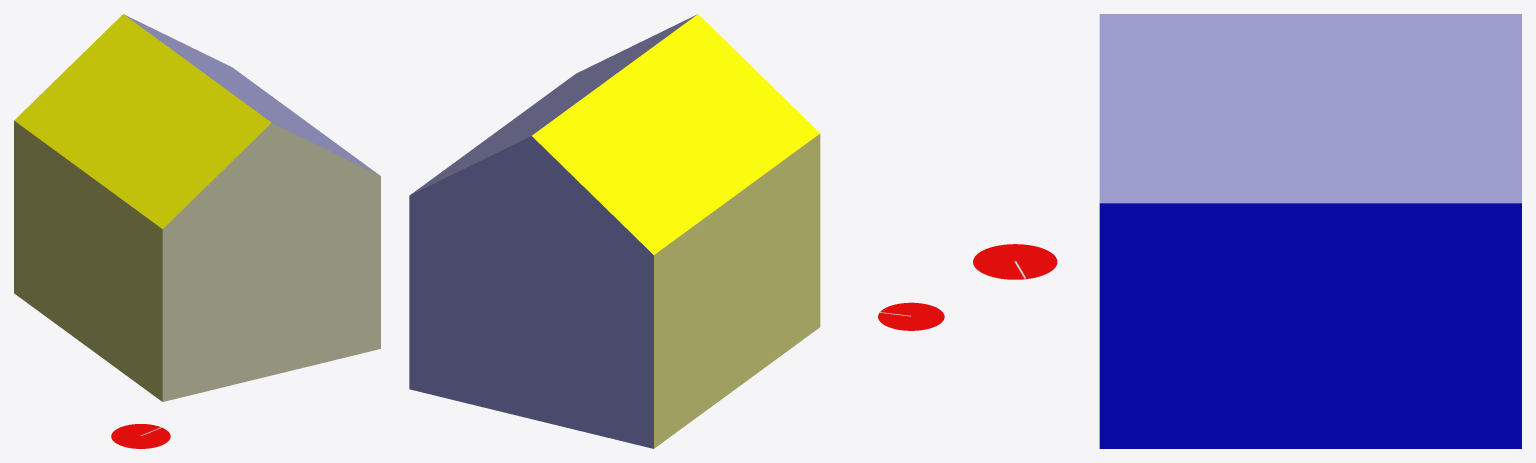
Rendered from result.glb.
3 renders of one model, left to right at view 1: azimuth 30°, elevation 25°; view 2: azimuth 150°, elevation 25°; view 3: azimuth 270°, elevation 25°, orthographic. The views are drawn at different scales.
Parts seen in each view (by area): view 1: fbe8c604-13cf-47c2-a23f-c63e923e86fa__undefined, 8908fadc-a802-4c4b-9126-795b3aaf50d0__undefined, 984ecce1-1292-419e-933f-fe7b27564c52__undefined, 2cf3e2b7-8741-4010-b4b7-ec59694e81e9__undefined, 72692b46-6a08-41d9-8b31-55dccdb44ef6__Circle; view 2: 2af05c23-9398-4c28-b0a3-43bd29ceca63__undefined, 8908fadc-a802-4c4b-9126-795b3aaf50d0__undefined, 984ecce1-1292-419e-933f-fe7b27564c52__undefined, 2cf3e2b7-8741-4010-b4b7-ec59694e81e9__undefined, 72692b46-6a08-41d9-8b31-55dccdb44ef6__Circle; view 3: 08b2bd15-3aa7-4d26-881e-13be2a24077b__undefined, 2cf3e2b7-8741-4010-b4b7-ec59694e81e9__undefined, 72692b46-6a08-41d9-8b31-55dccdb44ef6__Circle.
Part boxes in pixels (x1=…): fbe8c604-13cf-47c2-a23f-c63e923e86fa__undefined: x1=162, y1=123, x2=380, y2=401; 8908fadc-a802-4c4b-9126-795b3aaf50d0__undefined: x1=14, y1=14, x2=271, y2=228; 984ecce1-1292-419e-933f-fe7b27564c52__undefined: x1=14, y1=120, x2=162, y2=401; 2cf3e2b7-8741-4010-b4b7-ec59694e81e9__undefined: x1=124, y1=14, x2=379, y2=175; 72692b46-6a08-41d9-8b31-55dccdb44ef6__Circle: x1=111, y1=424, x2=170, y2=448; 2af05c23-9398-4c28-b0a3-43bd29ceca63__undefined: x1=409, y1=136, x2=653, y2=448; 8908fadc-a802-4c4b-9126-795b3aaf50d0__undefined: x1=532, y1=14, x2=819, y2=254; 984ecce1-1292-419e-933f-fe7b27564c52__undefined: x1=654, y1=134, x2=820, y2=448; 2cf3e2b7-8741-4010-b4b7-ec59694e81e9__undefined: x1=410, y1=14, x2=697, y2=194; 72692b46-6a08-41d9-8b31-55dccdb44ef6__Circle: x1=878, y1=302, x2=944, y2=330; 08b2bd15-3aa7-4d26-881e-13be2a24077b__undefined: x1=1099, y1=203, x2=1521, y2=448; 2cf3e2b7-8741-4010-b4b7-ec59694e81e9__undefined: x1=1099, y1=14, x2=1521, y2=203; 72692b46-6a08-41d9-8b31-55dccdb44ef6__Circle: x1=973, y1=244, x2=1057, y2=279.
Size of the model in its own units: 574 by 469 by 650.
